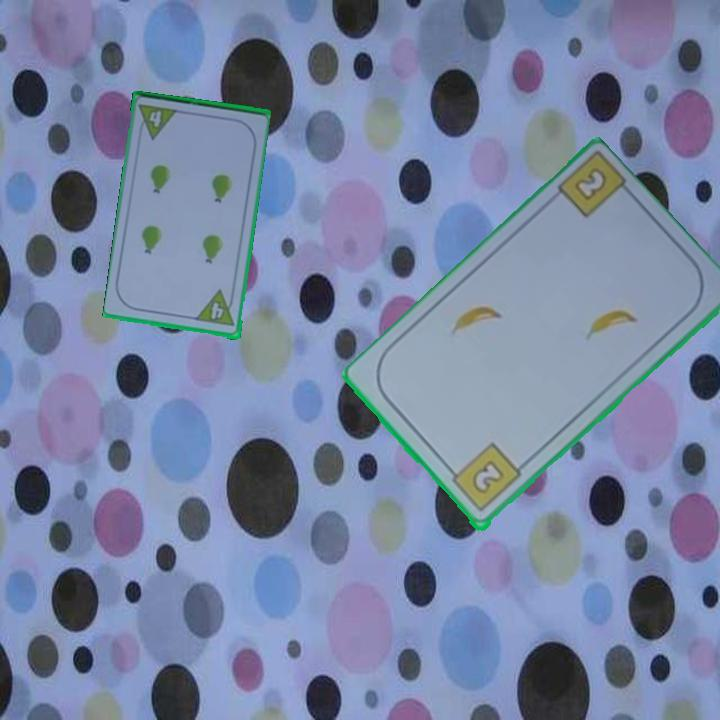2b: (444, 440, 524, 516), (574, 167, 607, 201)
4p: (193, 288, 238, 330), (135, 101, 180, 143)
